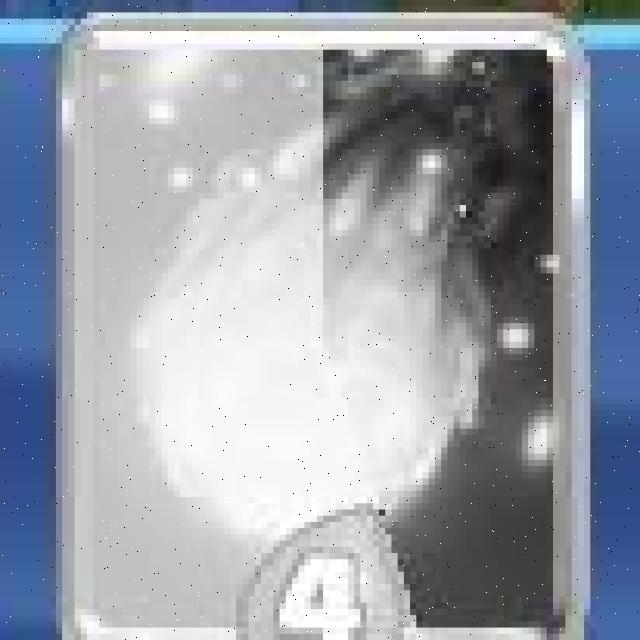Fireball: (48, 5, 593, 640)
